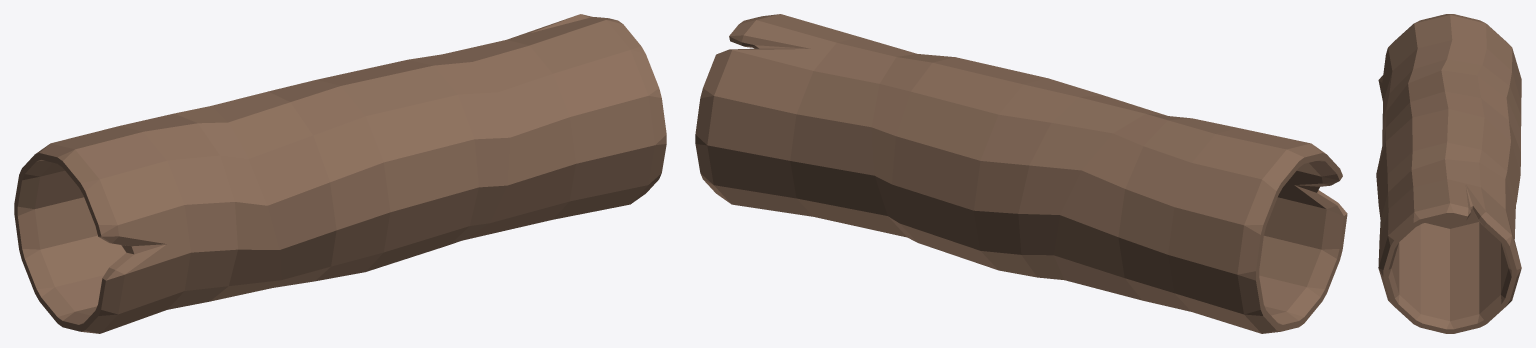
Rendered from Log 1.1.fbx.
3 views of the same model, side by side, from view 1: azimuth 30°, elevation 25°; view 2: azimuth 150°, elevation 25°; view 3: azimuth 270°, elevation 25° (orthographic). The views are drawn at different scales.
Visible parts, largest first — view 1: Stamm; view 2: Stamm; view 3: Stamm.
Boxes of the visible parts, <box> form: Stamm: <box>14,14,666,333</box>; Stamm: <box>695,14,1347,333</box>; Stamm: <box>1376,14,1521,333</box>.
Size of the model in its own units: 2934 by 902 by 907.
